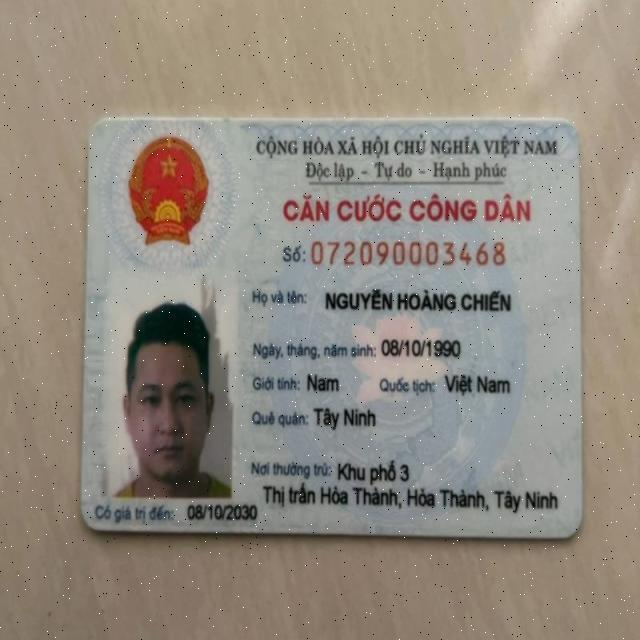current_place: (264, 476, 559, 516), (334, 460, 413, 485)
dob: (379, 333, 462, 363)
expire_date: (184, 501, 260, 525)
gender: (307, 369, 342, 397)
id: (309, 237, 507, 269)
name: (323, 285, 514, 321)
nationality: (441, 367, 514, 401)
origin_place: (309, 401, 380, 433)
